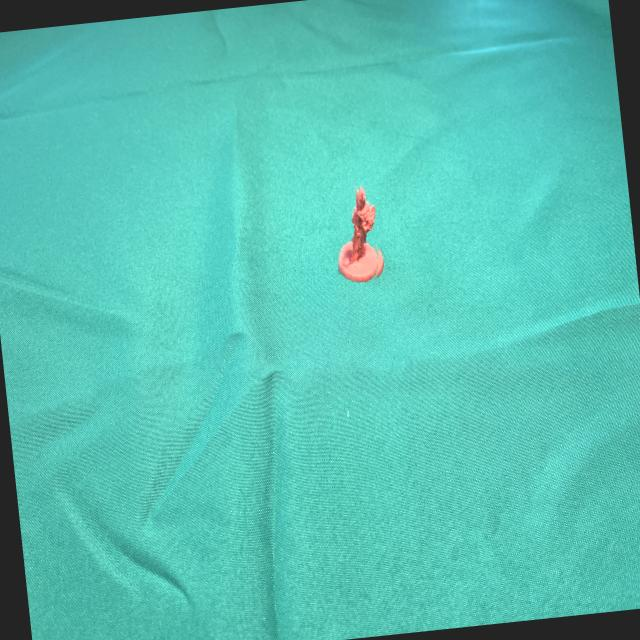amon_follower: (338, 185, 378, 282)
